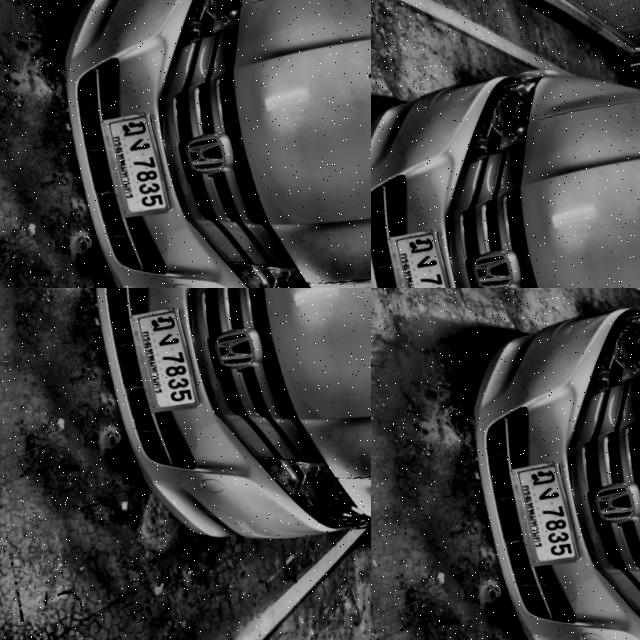license-plate: (503, 450, 586, 569)
